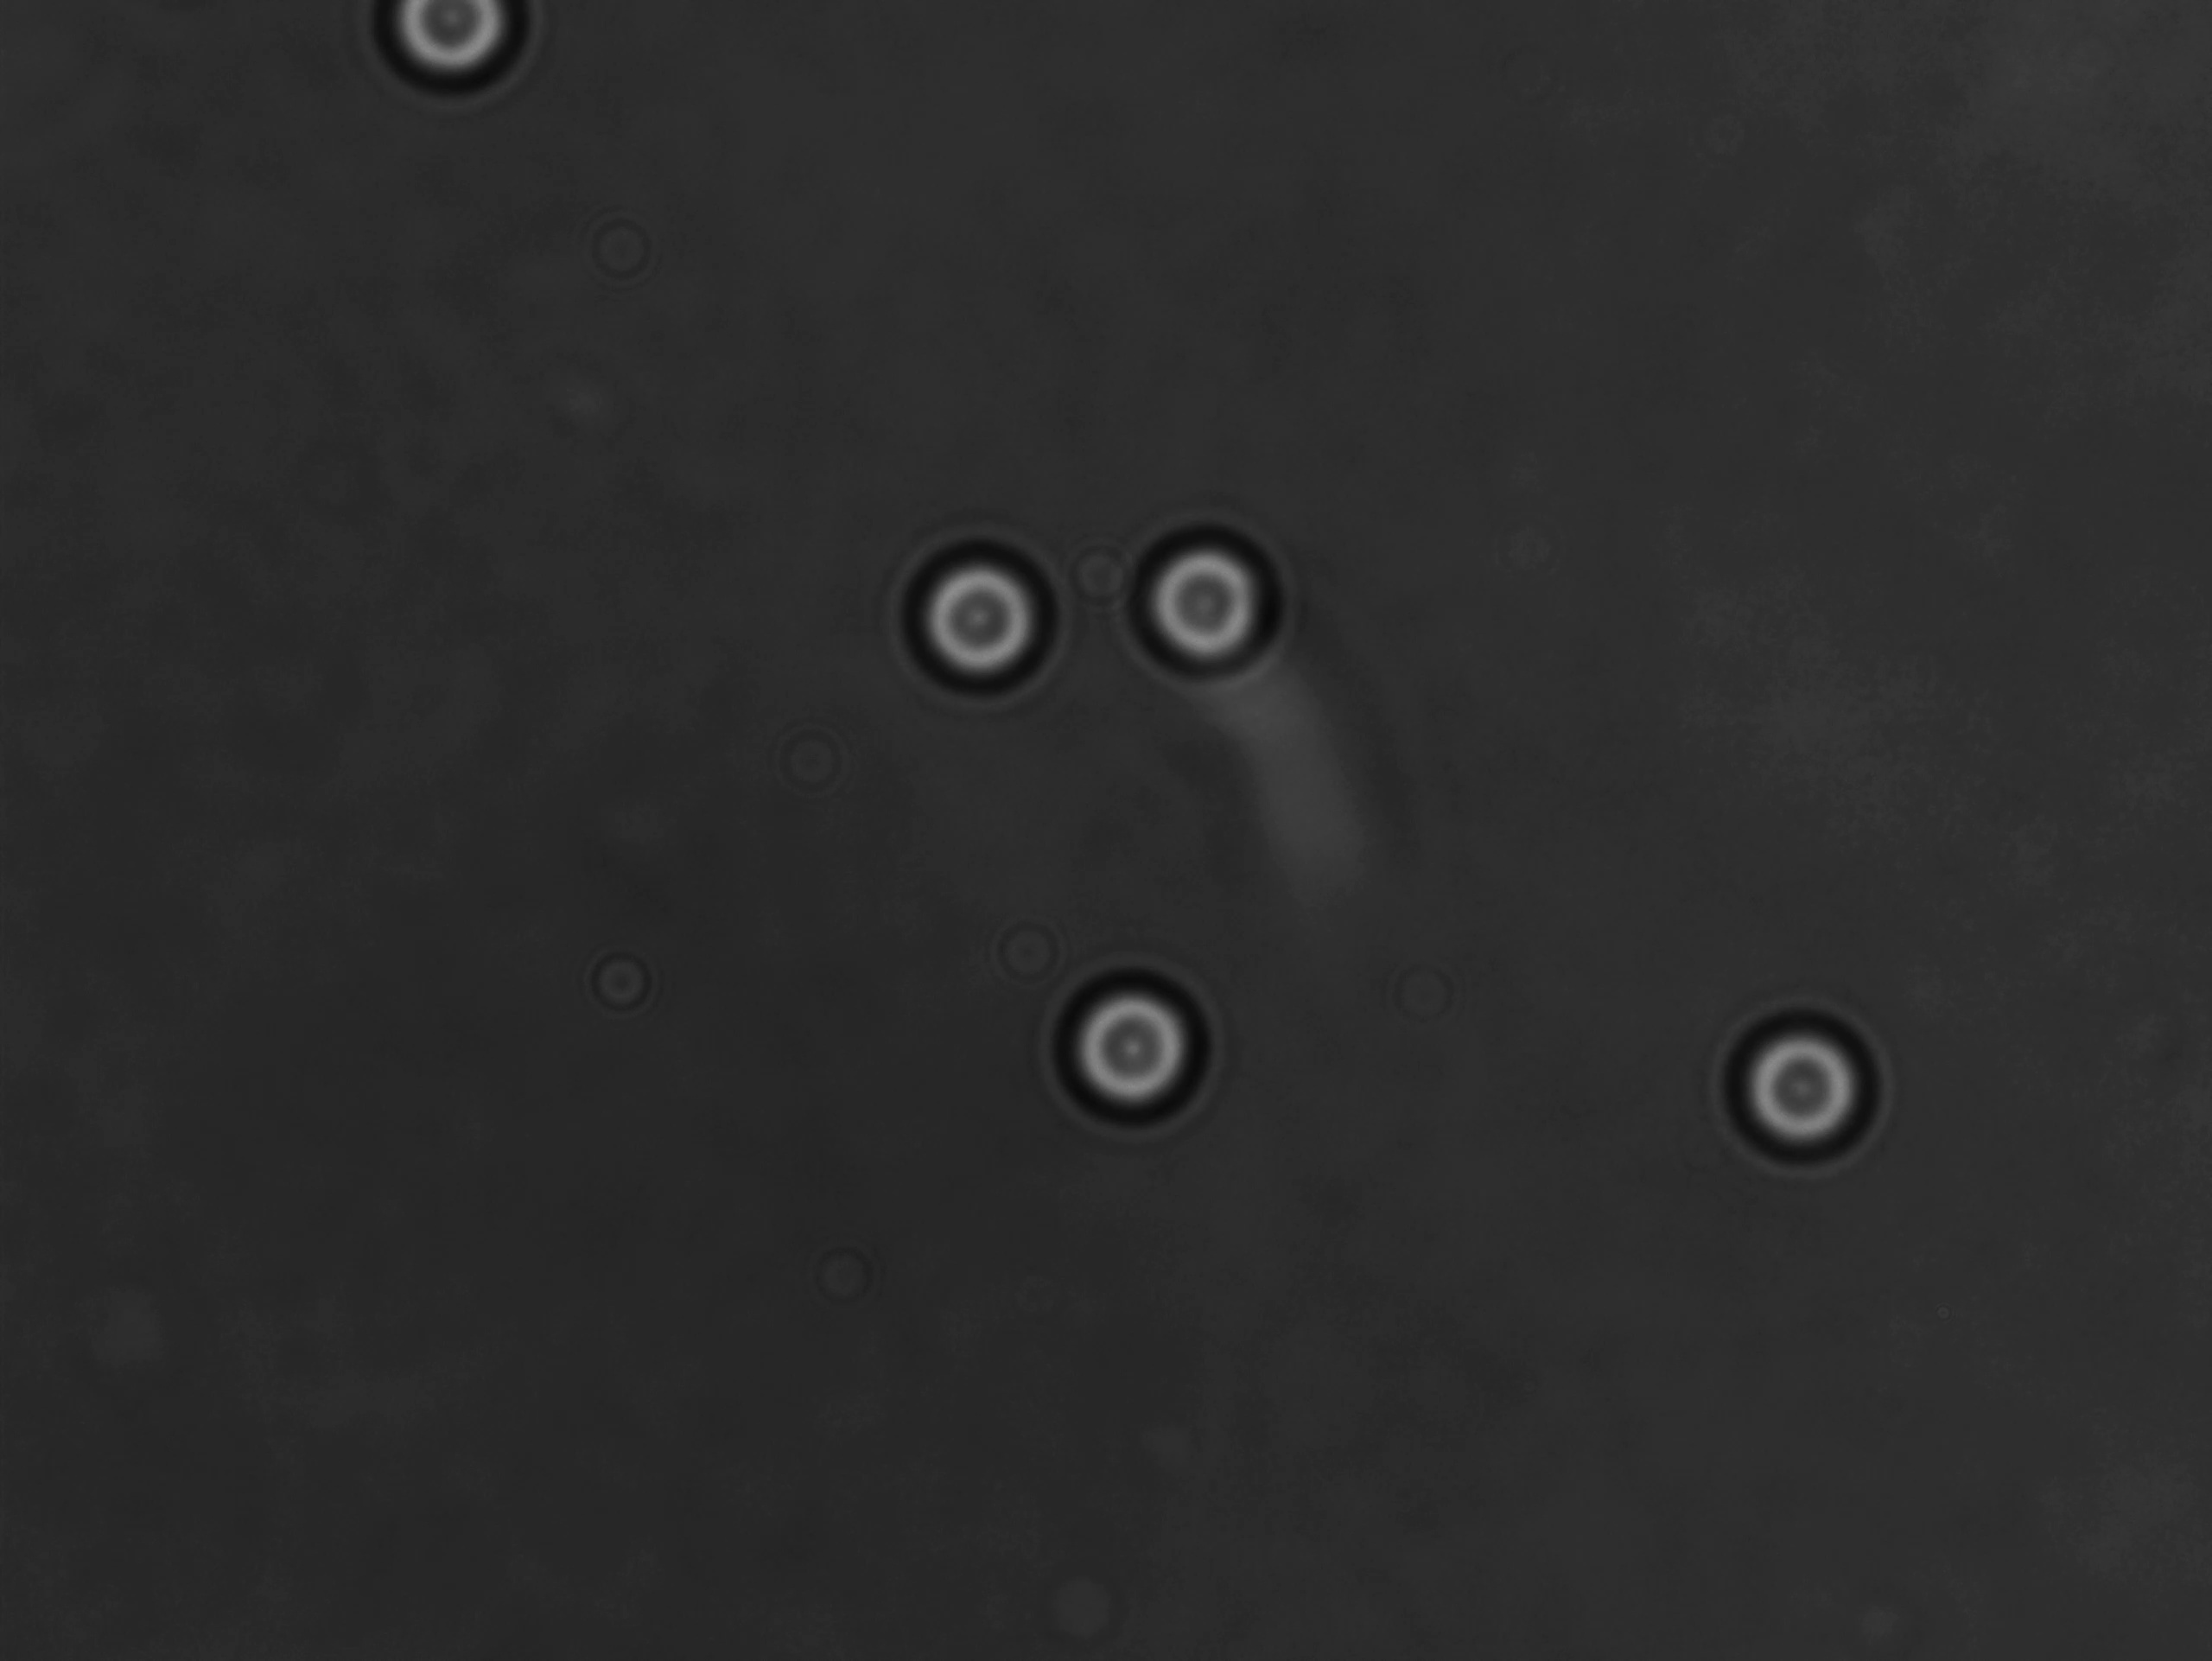depth:40: (1118, 508, 1303, 696), (1703, 998, 1903, 1171), (883, 530, 1080, 705), (1038, 961, 1223, 1139)
